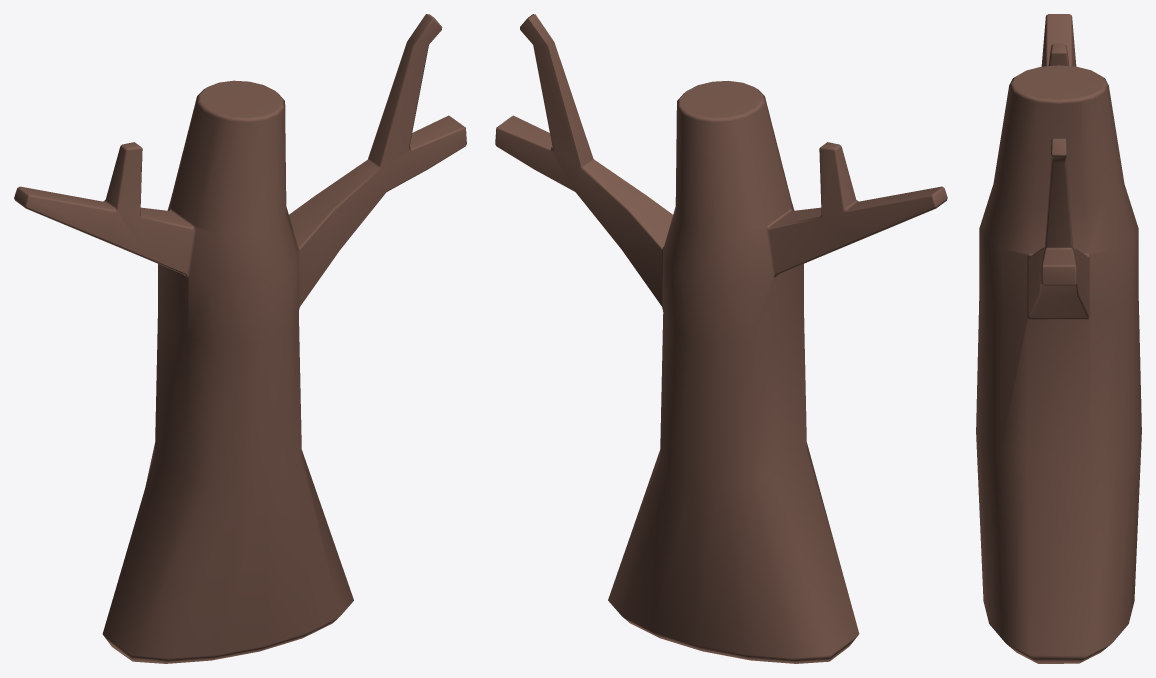
The model's file is TreeStump.fbx.
The picture shows the model from 3 angles, left to right: view 1: azimuth 30°, elevation 25°; view 2: azimuth 150°, elevation 25°; view 3: azimuth 270°, elevation 25°; orthographic projection.
Parts seen in each view (by area): view 1: Treestump; view 2: Treestump; view 3: Treestump.
Boxes of the visible parts, bbox=[...] form: Treestump: bbox=[14, 14, 466, 663]; Treestump: bbox=[495, 14, 947, 663]; Treestump: bbox=[976, 14, 1141, 663].
Bounding box in the file's own units: 2.85 × 3.48 × 0.9136.
